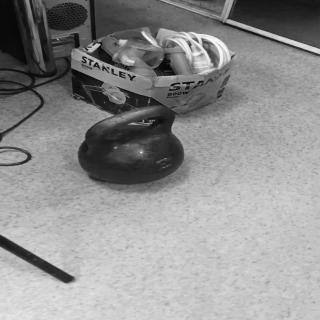kettlebell: (76, 107, 187, 187)
